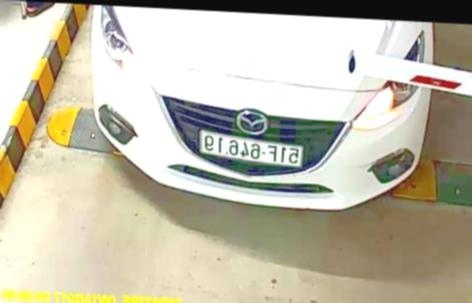License_Plate: (198, 131, 304, 172)
